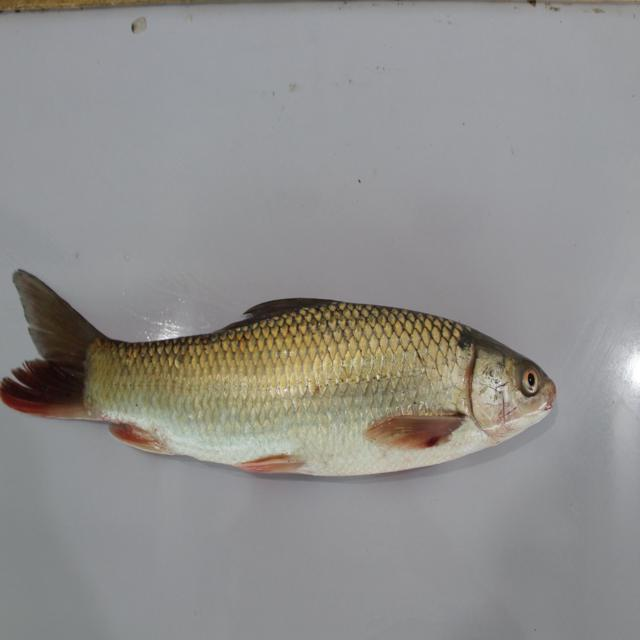Mori: (5, 252, 568, 521)
